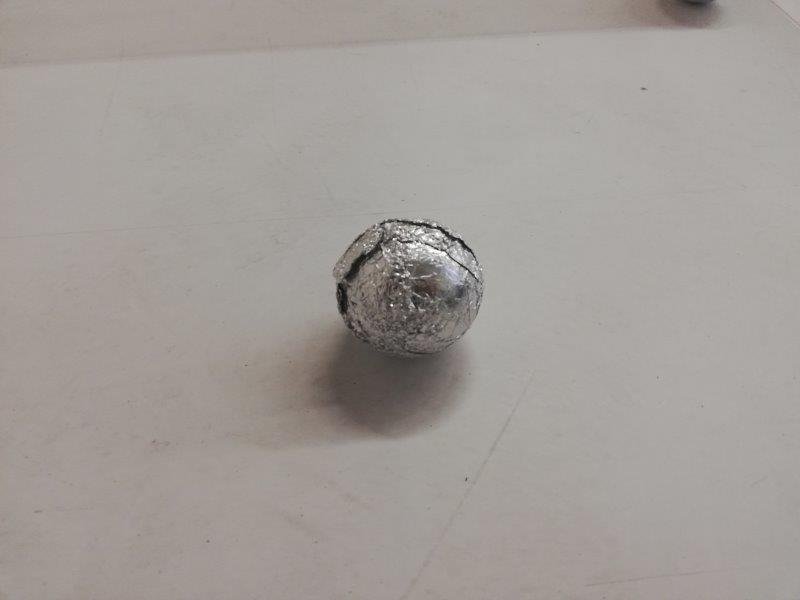bianca: (333, 216, 486, 361)
